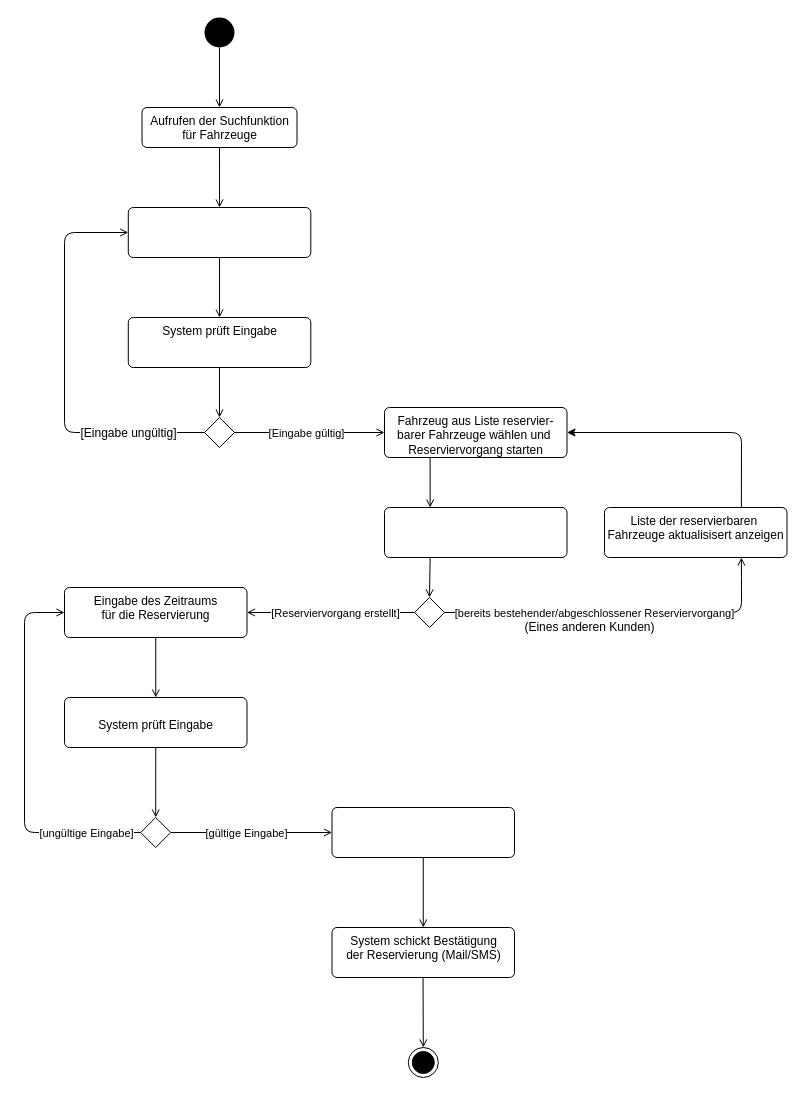
Image size: 805x1095. Some labels were removed from this diagram. Here are the shapes that lost their labels. From the top down, the box of each, then its label:
(127, 206, 311, 258): Eingabe von Standort, Zeitraum, Modell, Preis als Kriterien für die Suche
(384, 506, 567, 558): System prüft, ob Reservierung möglich
(331, 806, 514, 858): Manuelle Bestätigung der Eingabe
